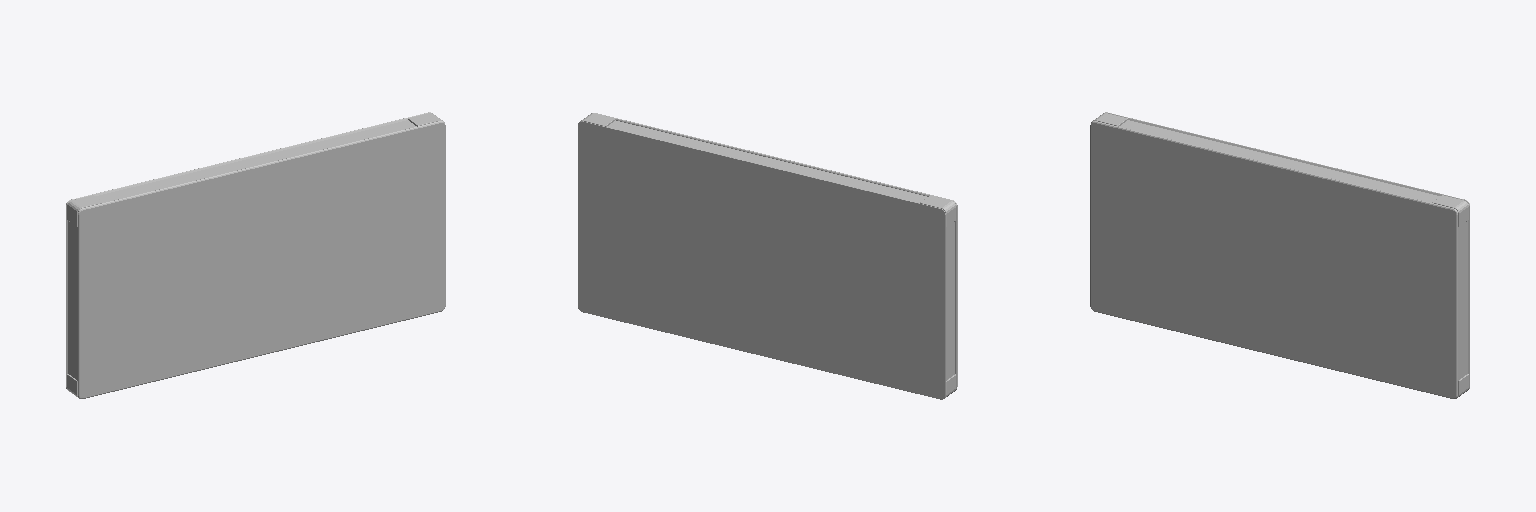
Rendered from table.obj.
The picture shows the model from 3 angles: view 1: azimuth 30°, elevation 25°; view 2: azimuth 150°, elevation 25°; view 3: azimuth 330°, elevation 25°; orthographic projection.
Bounding box in the file's own units: 43.7 × 21.69 × 2.6.